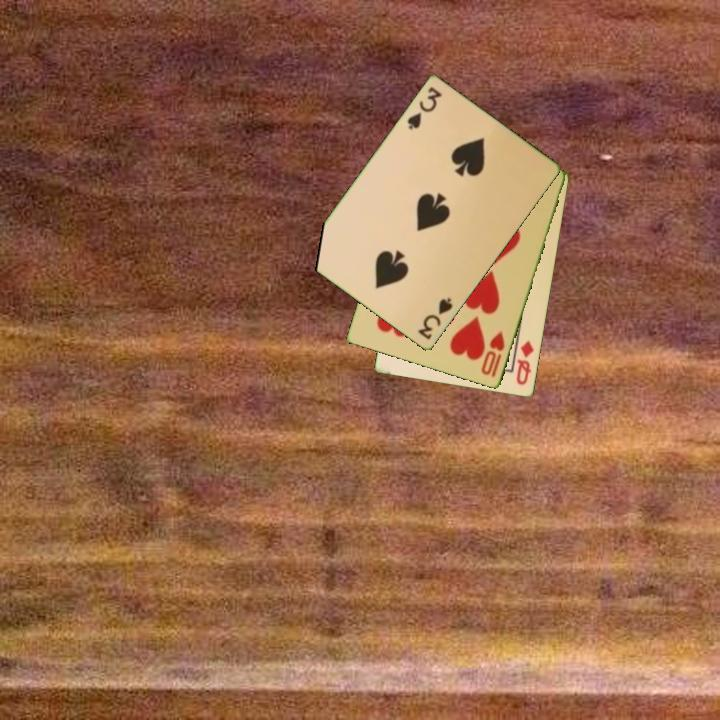10h: (478, 328, 508, 380)
3s: (403, 84, 445, 133), (414, 295, 456, 343)
Qd: (513, 337, 537, 388)
